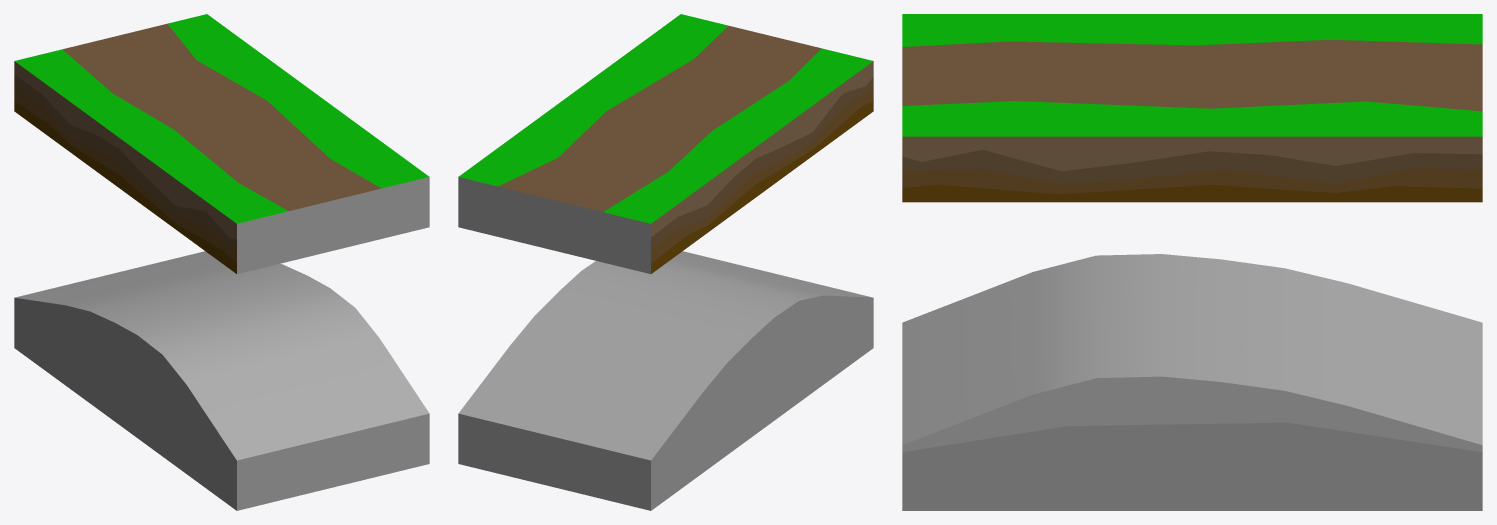
The model's file is Path_OneHill.fbx.
The picture shows the model from 3 angles, left to right: view 1: azimuth 30°, elevation 25°; view 2: azimuth 150°, elevation 25°; view 3: azimuth 270°, elevation 25°; orthographic projection. The views are drawn at different scales.
Parts seen in each view (by area): view 1: pCube2, pCube1; view 2: pCube2, pCube1; view 3: pCube2, pCube1.
Boxes of the visible parts, x1=… form: pCube2: x1=14, y1=251, x2=429, y2=510; pCube1: x1=14, y1=14, x2=429, y2=273; pCube2: x1=458, y1=251, x2=873, y2=510; pCube1: x1=458, y1=14, x2=873, y2=273; pCube2: x1=902, y1=254, x2=1482, y2=510; pCube1: x1=902, y1=14, x2=1482, y2=202.
Bounding box in the file's own units: 10 × 14.24 × 20.
